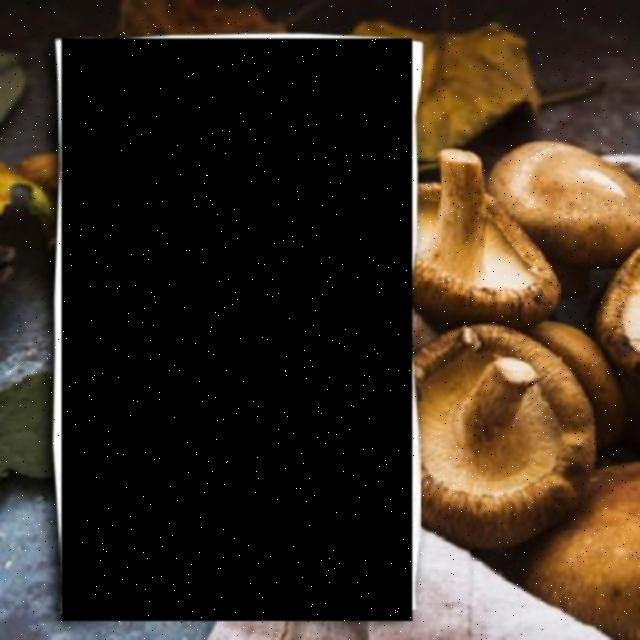Mushroom: (61, 38, 413, 620)
